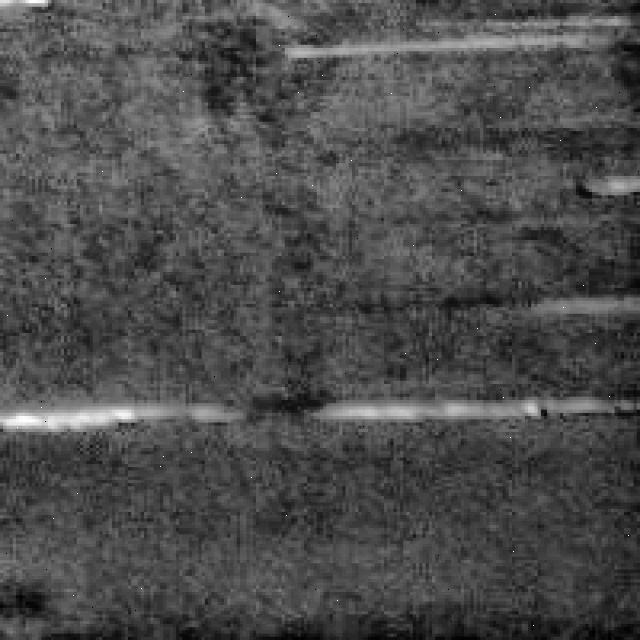Inclusion: (326, 384, 602, 429), (6, 388, 221, 438)
